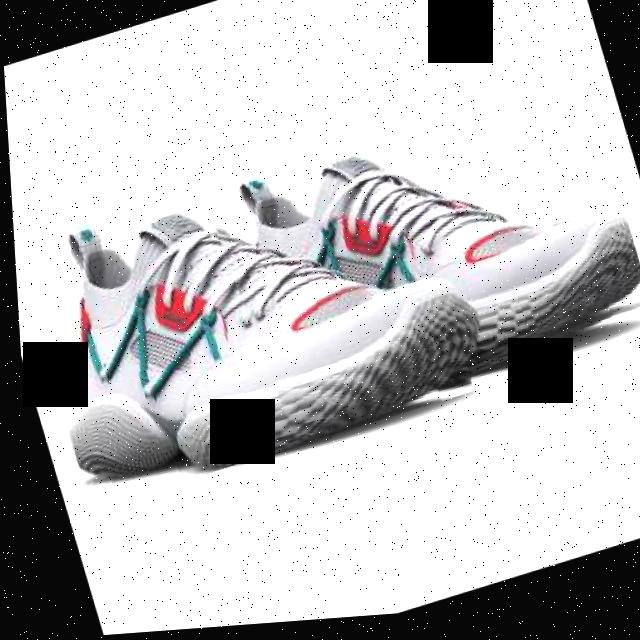shoe: (7, 130, 480, 513), (195, 82, 640, 441)
